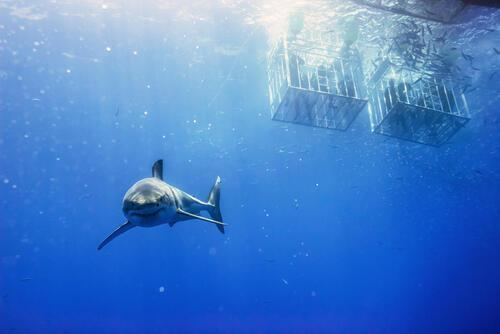shark: (97, 159, 230, 251)
